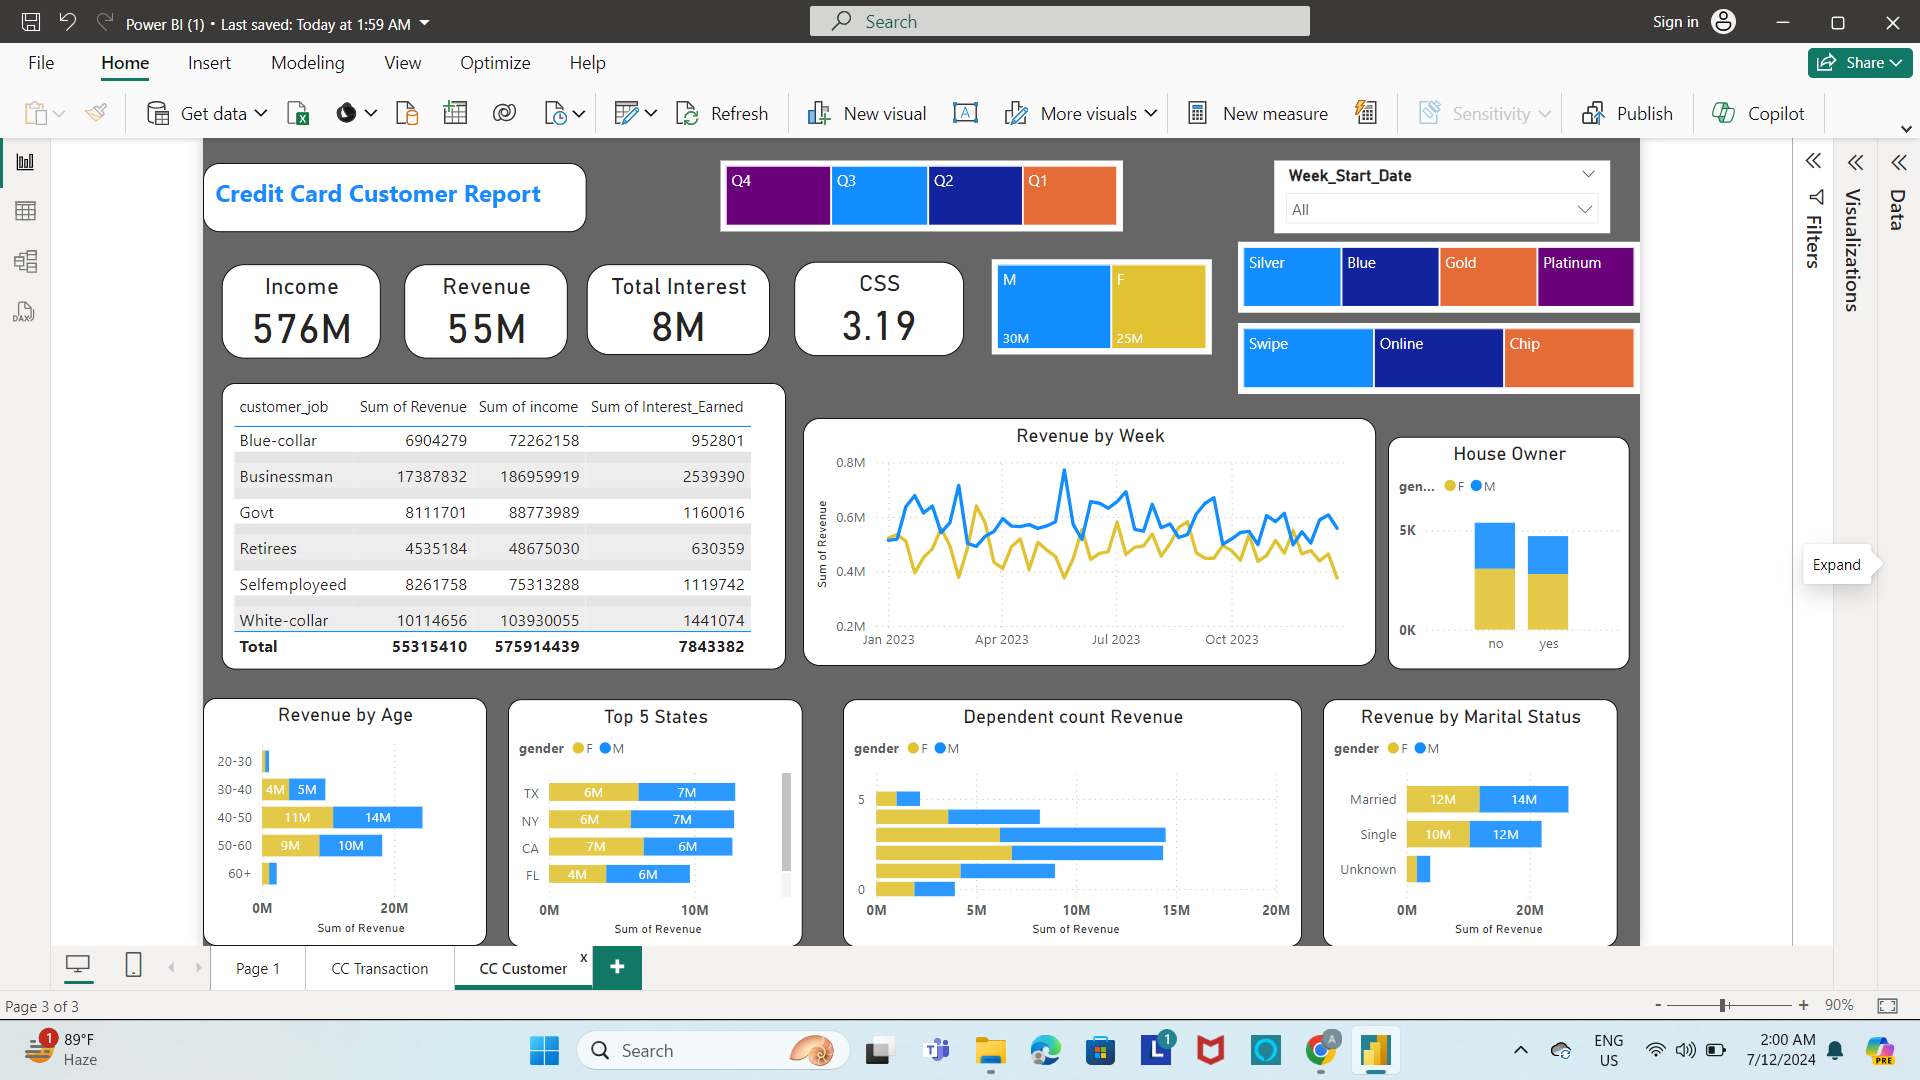

Layout of this report page (visuals, bound fields, positions):
{"tool":"powerbi","page":{"name":"CC Customer","canvas":[1280,720],"ordinal":2},"visuals":[{"type":"textbox","box":[0,22,341.7,61.7],"z":0},{"type":"barChart","title":"Revenue by Age","fields":{"Y":["Sum(credit_card updated.Revenue)"],"Category":["public cust_detail.Agegroup"],"Series":["public cust_detail.gender"]},"box":[0,499.1,252.5,220.9],"z":1000},{"type":"tableEx","fields":{"Values":["public cust_detail.customer_job","Sum(credit_card updated.Revenue)","Sum(public cust_detail.income)","Sum(credit_card updated.Interest_Earned)"]},"box":[16.5,218.2,502.2,255.2],"z":2000},{"type":"card","title":"Income","fields":{"Values":["Sum(public cust_detail.income)"]},"box":[16.5,112.5,141.3,83.7],"z":3000},{"type":"card","title":"Revenue","fields":{"Values":["Sum(credit_card updated.Revenue)"]},"box":[179.8,112.5,145.5,83.7],"z":4000},{"type":"card","title":"Total Interest","fields":{"Values":["Sum(credit_card updated.Interest_Earned)"]},"box":[341.7,112.5,163.3,81],"z":5000},{"type":"card","title":"CSS","fields":{"Values":["Avg(public cust_detail.cust_satisfaction_score)"]},"box":[526.9,109.8,150.9,83.7],"z":6000},{"type":"treemap","fields":{"Group":["credit_card updated.Qtr"],"Values":["Avg(credit_card updated.Client_Num)"]},"box":[461.1,20.6,358.1,63.1],"z":7000},{"type":"treemap","fields":{"Values":["Avg(credit_card updated.Client_Num)"],"Group":["credit_card updated.Card_Category"]},"box":[922.1,91.9,358.1,63.1],"z":8000},{"type":"slicer","fields":{"Values":["credit_card updated.Week_Start_Date"]},"box":[953.7,20.6,299.1,64.5],"z":9000},{"type":"lineChart","title":"Revenue by Week","fields":{"Y":["Sum(credit_card updated.Revenue)"],"Series":["public cust_detail.gender"],"Category":["credit_card updated.Week_Start_Date.Variation.Date Hierarchy.Year","credit_card updated.Week_Start_Date.Variation.Date Hierarchy.Quarter","credit_card updated.Week_Start_Date.Variation.Date Hierarchy.Month","credit_card updated.Week_Start_Date.Variation.Date Hierarchy.Day"]},"box":[533.8,249.7,510.5,220.9],"z":10000},{"type":"treemap","fields":{"Group":["public cust_detail.gender"],"Values":["Sum(credit_card updated.Revenue)"]},"box":[702.6,108.4,196.2,85.1],"z":11000},{"type":"barChart","title":"Top 5 States","fields":{"Y":["Sum(credit_card updated.Revenue)"],"Category":["public cust_detail.state_cd"],"Series":["public cust_detail.gender"]},"box":[271.7,499.5,262.1,220.9],"z":12000},{"type":"barChart","title":"Dependent count Revenue","fields":{"Y":["Sum(credit_card updated.Revenue)"],"Category":["public cust_detail.dependent_count"],"Series":["public cust_detail.gender"]},"box":[569.5,499.5,408.9,220.9],"z":13000},{"type":"barChart","title":"Revenue by Marital Status","fields":{"Y":["Sum(credit_card updated.Revenue)"],"Series":["public cust_detail.gender"],"Category":["public cust_detail.marital_status"]},"box":[997.6,499.5,262.1,220.9],"z":14000},{"type":"treemap","fields":{"Values":["Avg(credit_card updated.Client_Num)"],"Group":["credit_card updated.Use Chip"]},"box":[922.1,164.7,358.1,63.1],"z":15000},{"type":"columnChart","title":"House Owner","fields":{"Category":["public cust_detail.house_owner"],"Series":["public cust_detail.gender"],"Y":["CountNonNull(public cust_detail.house_owner)"]},"box":[1055.2,266.2,215.4,207.2],"z":16000}]}

Visuals, with their boxes on the page's 1280x720 design canvas (x1, y1, x2, y2). These are canvas units, not pixel positions in the 1920x1080 screenshot, which may show the page scaled, cropped or inside an application window:
textbox: crop(0, 22, 342, 84)
"Revenue by Age" barChart: crop(0, 499, 252, 720)
tableEx - public cust_detail.customer_job x Sum(credit_card updated.Revenue): crop(16, 218, 519, 473)
"Income" card: crop(16, 112, 158, 196)
"Revenue" card: crop(180, 112, 325, 196)
"Total Interest" card: crop(342, 112, 505, 194)
"CSS" card: crop(527, 110, 678, 194)
treemap - credit_card updated.Qtr x Avg(credit_card updated.Client_Num): crop(461, 21, 819, 84)
treemap - Avg(credit_card updated.Client_Num) x credit_card updated.Card_Category: crop(922, 92, 1280, 155)
slicer - credit_card updated.Week_Start_Date: crop(954, 21, 1253, 85)
"Revenue by Week" lineChart: crop(534, 250, 1044, 471)
treemap - public cust_detail.gender x Sum(credit_card updated.Revenue): crop(703, 108, 899, 194)
"Top 5 States" barChart: crop(272, 500, 534, 720)
"Dependent count Revenue" barChart: crop(570, 500, 978, 720)
"Revenue by Marital Status" barChart: crop(998, 500, 1260, 720)
treemap - Avg(credit_card updated.Client_Num) x credit_card updated.Use Chip: crop(922, 165, 1280, 228)
"House Owner" columnChart: crop(1055, 266, 1271, 473)
